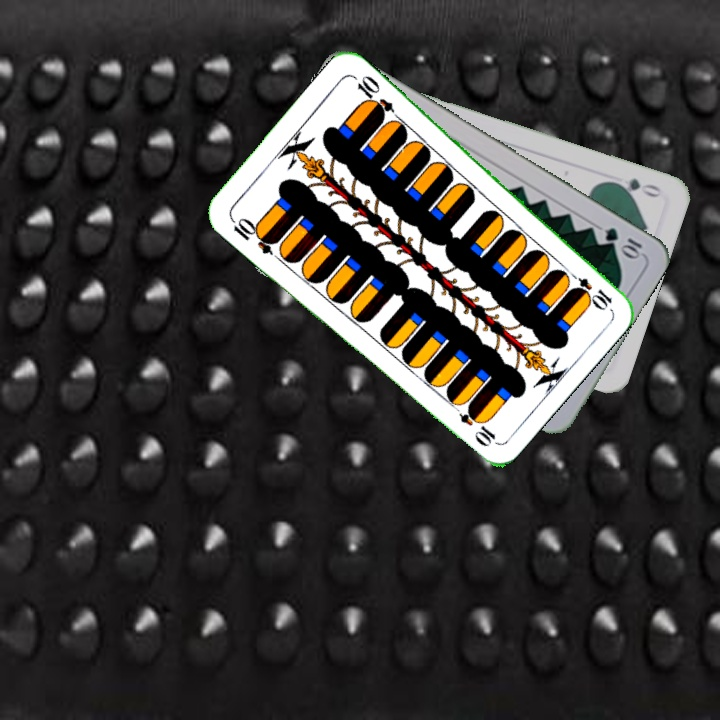E10: (562, 267, 615, 312), (226, 213, 280, 257)
G10: (601, 223, 645, 261)
GO: (606, 174, 664, 200)
